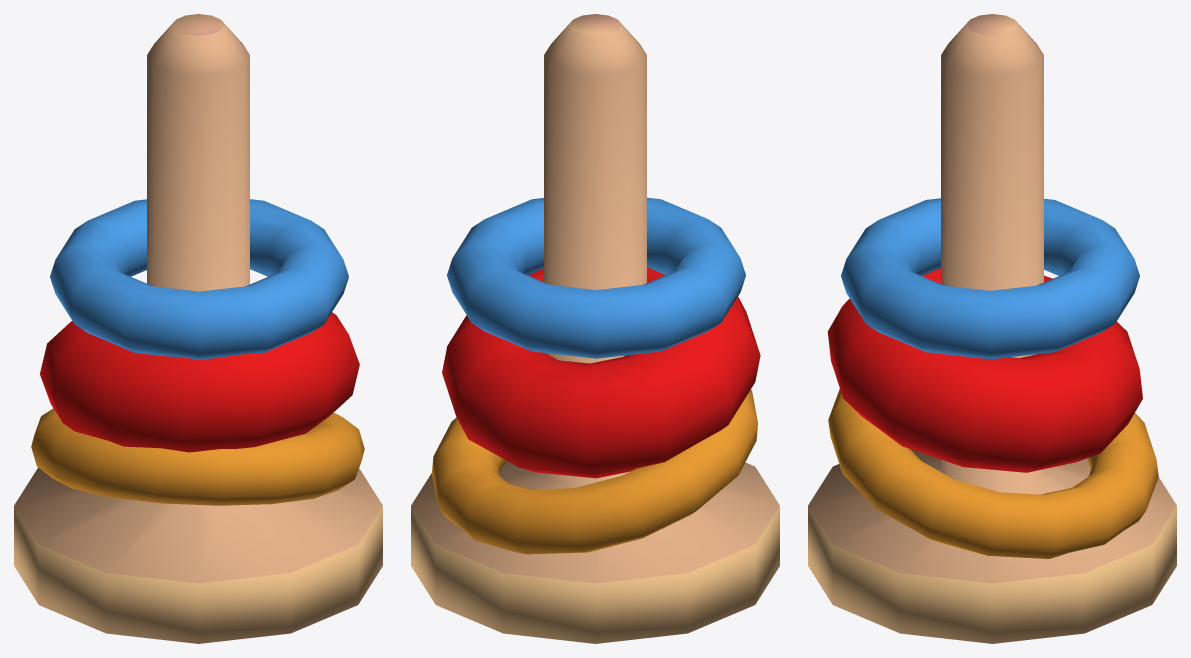
Rendered from jouet adresse.fbx.
The picture shows the model from 3 angles, left to right: view 1: azimuth 30°, elevation 25°; view 2: azimuth 150°, elevation 25°; view 3: azimuth 270°, elevation 25°; orthographic projection.
Parts seen in each view (by area): view 1: Cylinder; view 2: Cylinder; view 3: Cylinder.
Part boxes in pixels (left/top/right/bottom): Cylinder: left=14, top=14, right=382, bottom=643; Cylinder: left=411, top=14, right=779, bottom=643; Cylinder: left=808, top=14, right=1176, bottom=643.
Size of the model in its own units: 18.08 by 29.27 by 18.08.
